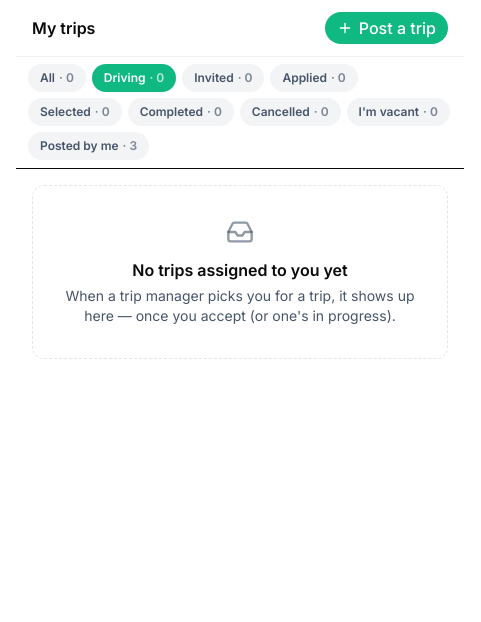
Test case: DriverActivityPage › the Posted tab sorts newest-posted first (createdAt DESC)
The width and height of the screenshot is (481, 622).
Click the button "Posted by me · 3" at (88, 146), box 28,132 -> 149,160
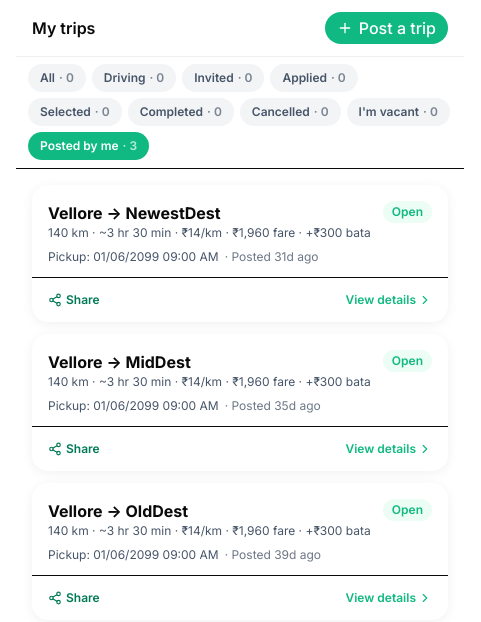
Now the text "Vellore → NewestDest" is shown, box 48,201 -> 221,225
Now the text "Vellore → OldDest" is shown, box 48,499 -> 188,523
